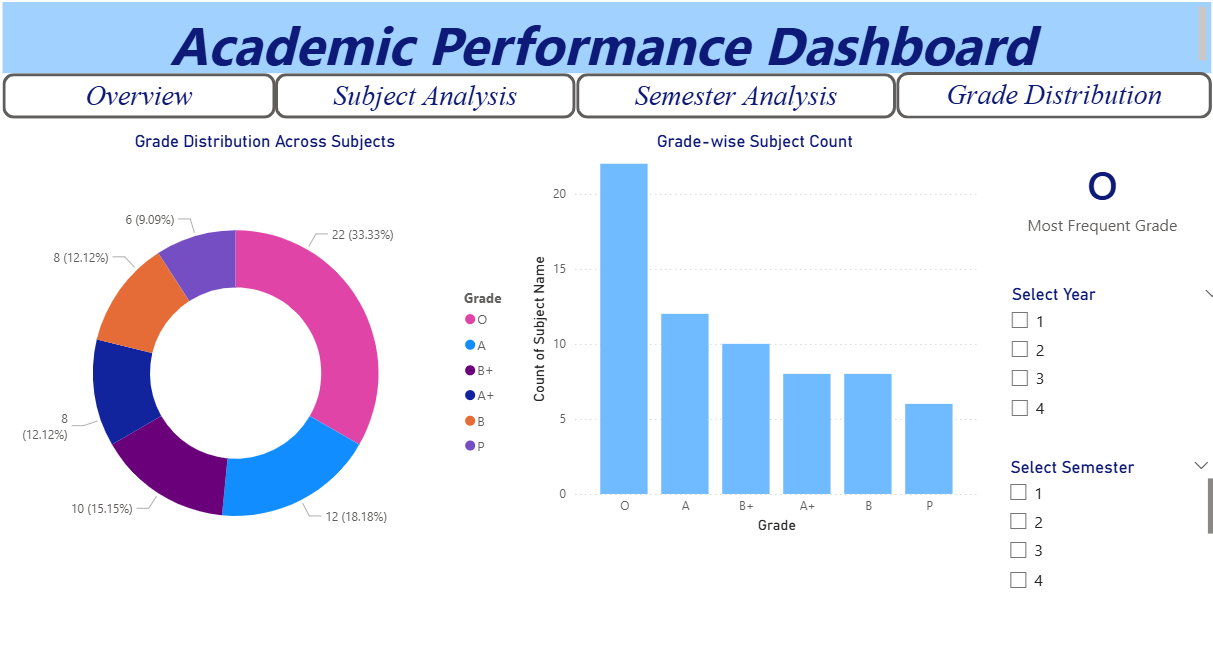

The dashboard page shown, as its layout file describes it:
{"tool":"powerbi","page":{"name":"Grade Distribution","canvas":[1280,720],"ordinal":3},"visuals":[{"type":"textbox","box":[27.4,39.8,1208.9,71.4],"z":0},{"type":"actionButton","box":[300.5,111.1,300.5,45.3],"z":1000},{"type":"actionButton","box":[601,111.1,319.7,45.3],"z":2000},{"type":"actionButton","box":[920.8,109.8,315.6,46.7],"z":3000},{"type":"actionButton","box":[27.4,111.1,273.1,45.3],"z":4000},{"type":"donutChart","title":"Grade Distribution Across Subjects","fields":{"Category":["academictable.Grade"],"Y":["CountNonNull(academictable.Subject Name)"]},"box":[26.9,168.8,524.6,465.9],"z":5000},{"type":"columnChart","title":"Grade-wise Subject Count","fields":{"Category":["academictable.Grade"],"Y":["CountNonNull(academictable.Subject Name)"]},"box":[551.5,168.8,457.3,407.2],"z":6000},{"type":"slicer","fields":{"Values":["academictable.Year"]},"box":[1023.5,317.9,233.6,167.5],"z":7000},{"type":"slicer","fields":{"Values":["academictable.Semester_Number"]},"box":[1022.3,490.4,223.8,144.3],"z":8000},{"type":"cardVisual","fields":{"Data":["academictable.Most Frequent Grade"]},"box":[1008.8,168.8,237.2,130.8],"z":9000}]}

Visuals, with their boxes on the page's 1280x720 design canvas (x1, y1, x2, y2). These are canvas units, not pixel positions in the 1213x652 screenshot, which may show the page scaled, cropped or inside an application window:
textbox: 27,40,1236,111
actionButton: 300,111,601,156
actionButton: 601,111,921,156
actionButton: 921,110,1236,156
actionButton: 27,111,300,156
"Grade Distribution Across Subjects" donutChart: 27,169,552,635
"Grade-wise Subject Count" columnChart: 552,169,1009,576
slicer - academictable.Year: 1024,318,1257,485
slicer - academictable.Semester_Number: 1022,490,1246,635
cardVisual - academictable.Most Frequent Grade: 1009,169,1246,300
